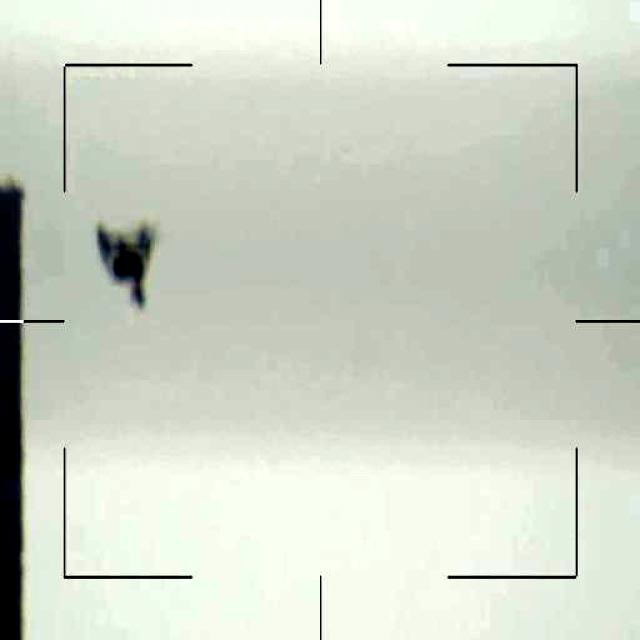bird: (84, 218, 150, 306)
